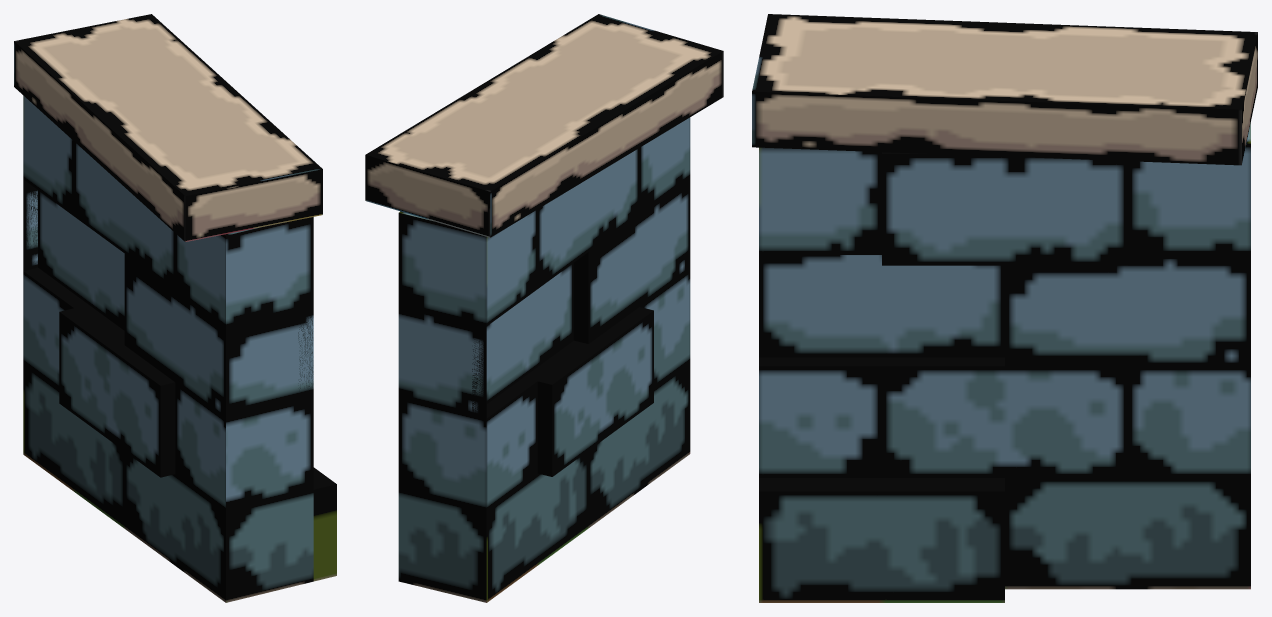
File: deco_wallSmall_B.FBX
3 views of the same model, side by side, from view 1: azimuth 30°, elevation 25°; view 2: azimuth 150°, elevation 25°; view 3: azimuth 270°, elevation 25° (orthographic). The views are drawn at different scales.
Parts seen in each view (by area): view 1: deco_wallSmall_B; view 2: deco_wallSmall_B; view 3: deco_wallSmall_B.
Boxes of the visible parts, x1,y1,x2,y2 form: deco_wallSmall_B: (14, 14, 336, 602); deco_wallSmall_B: (365, 14, 723, 602); deco_wallSmall_B: (752, 14, 1257, 602).
Bounding box in the file's own units: 0.9215 × 2.25 × 2.06.
1 material, 1 textured.
